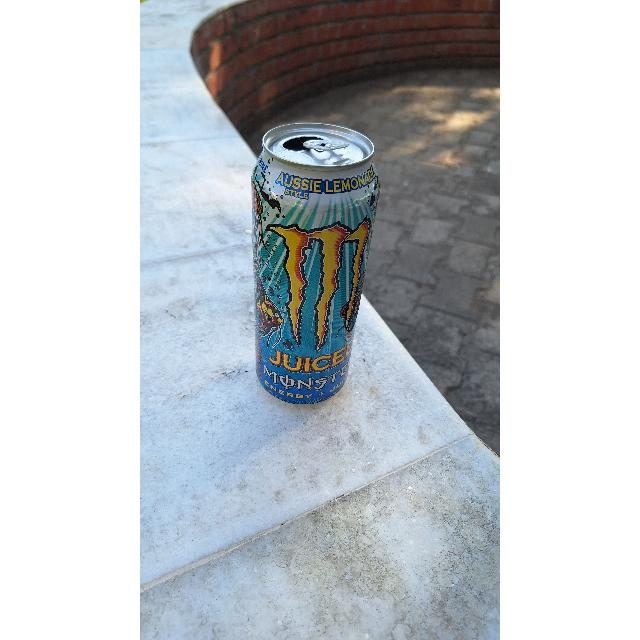Monster Aussie Lemonade: (250, 120, 374, 402)
